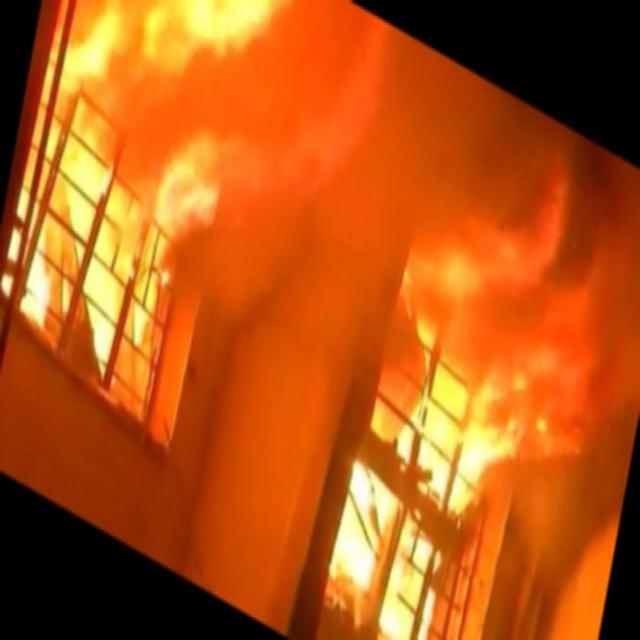fire: (7, 0, 286, 402), (352, 215, 591, 640)
